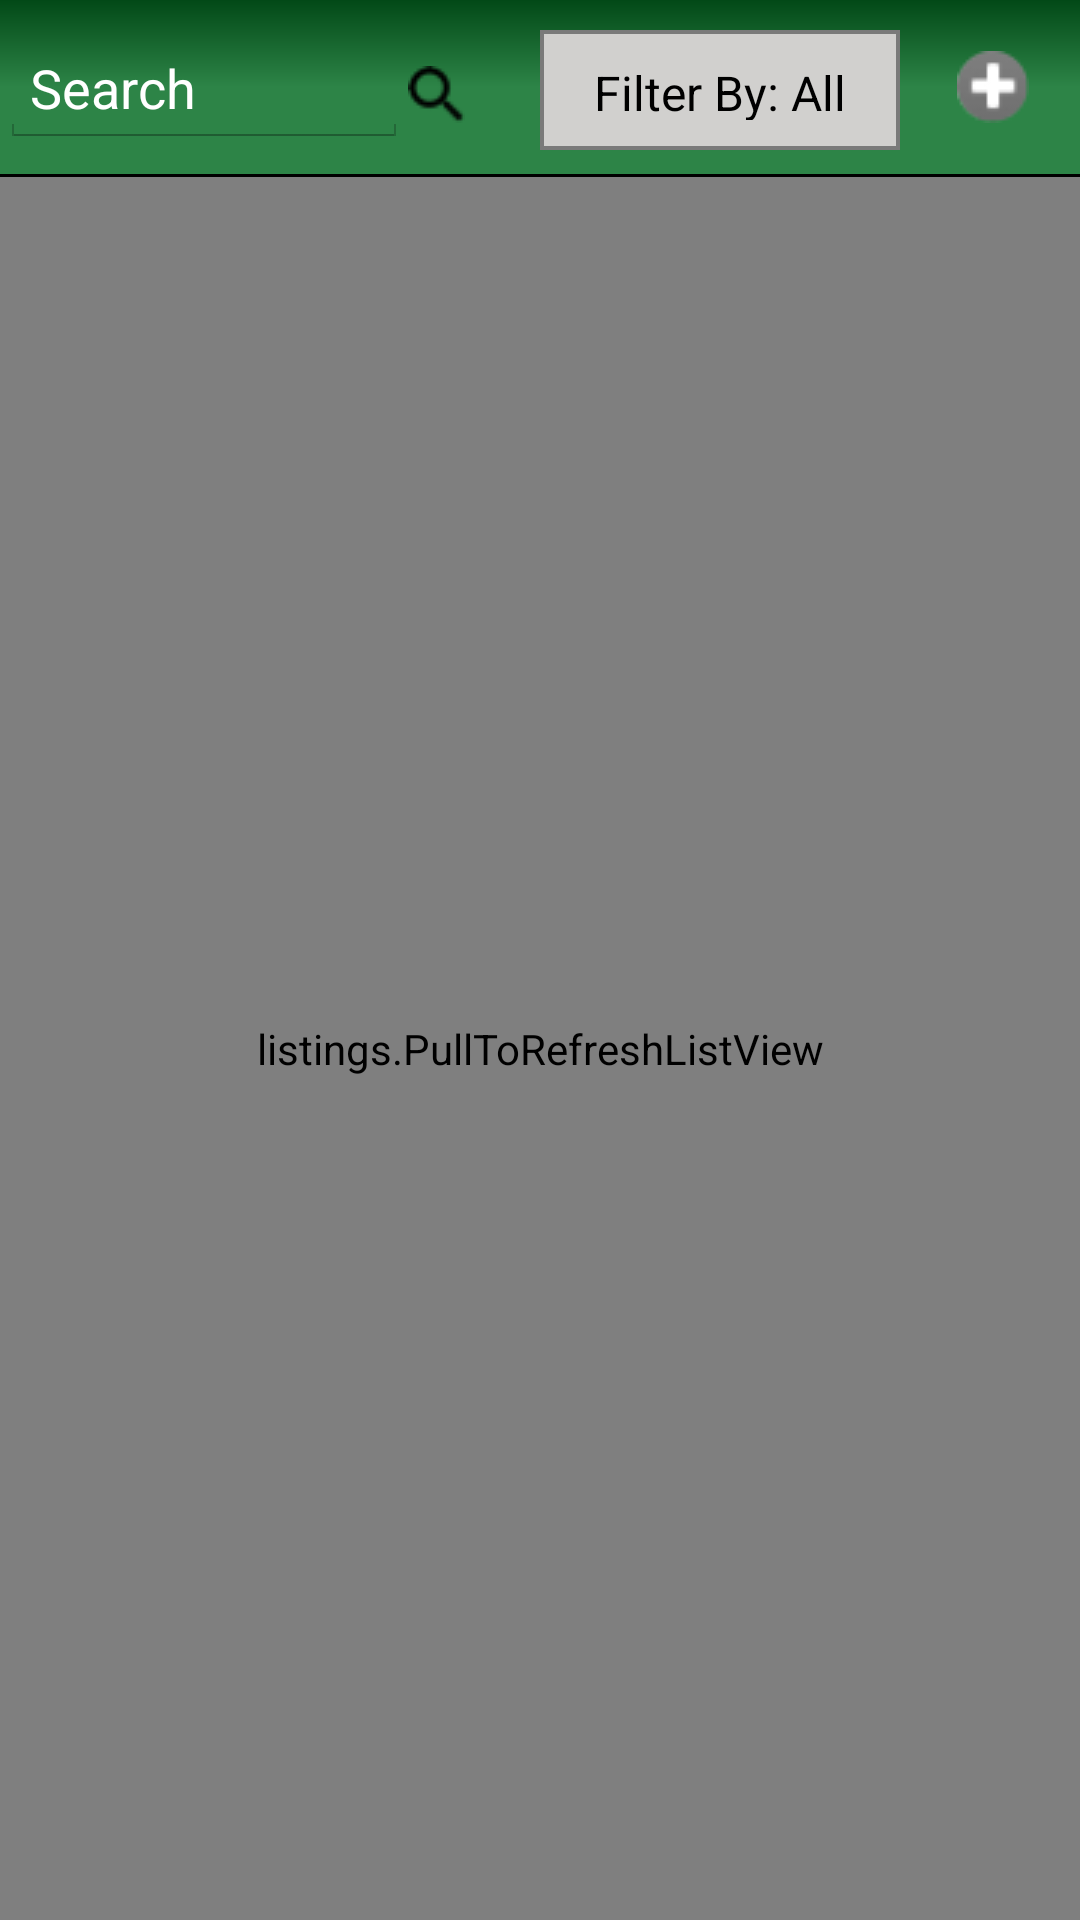

Where to tap for icons on this 1080x1920 app screen, as point (x, y):
glass: point (435, 93)
newicon: point (993, 75)
